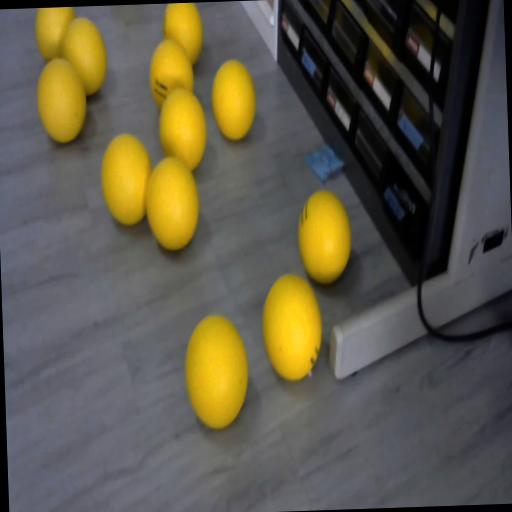FUEL: (182, 312, 250, 428), (259, 271, 324, 382), (142, 154, 200, 250), (296, 187, 352, 285), (98, 132, 152, 226), (34, 55, 89, 144), (156, 86, 208, 170), (210, 57, 258, 141), (162, 2, 204, 65), (33, 6, 76, 62)
